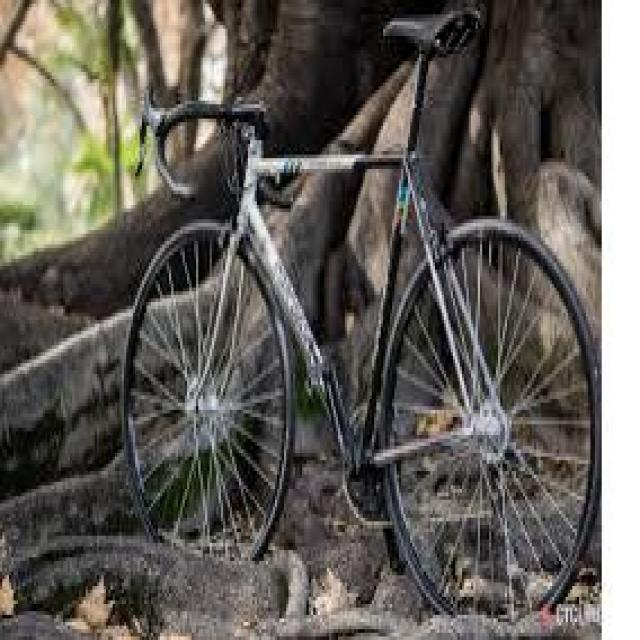bicycle: (105, 12, 597, 623)
